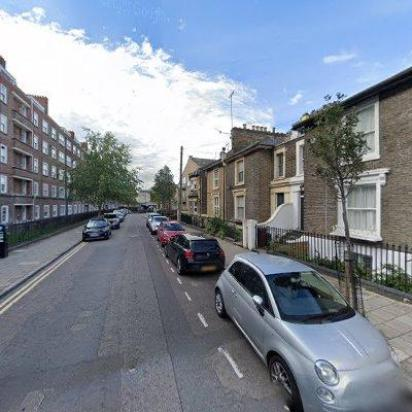stationary-car-onstreet: (214, 250, 406, 412), (162, 231, 226, 274), (158, 220, 188, 248), (83, 217, 112, 241), (149, 215, 173, 236), (101, 212, 119, 230), (113, 210, 123, 222)
